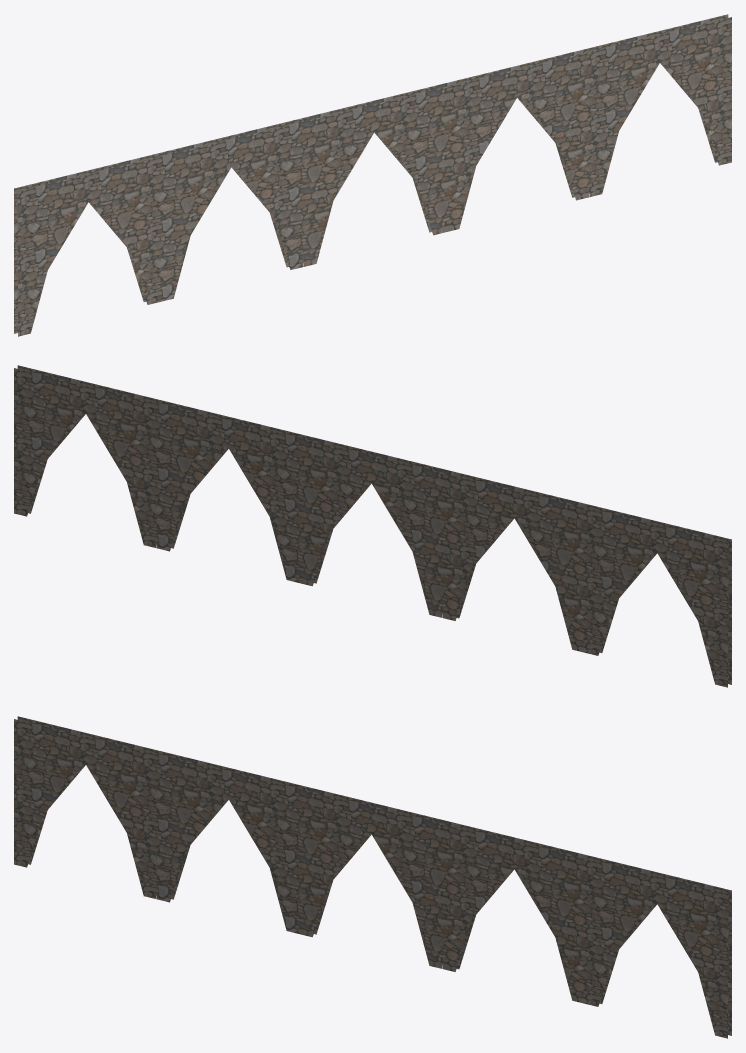
File: Upper_Wall.fbx
3 renders of one model, top to bottom at view 1: azimuth 30°, elevation 25°; view 2: azimuth 150°, elevation 25°; view 3: azimuth 330°, elevation 25°, orthographic.
Parts seen in each view (by area): view 1: Cube.005; view 2: Cube.005; view 3: Cube.005.
Part boxes in pixels (box(x1,y1,x2,y2)): Cube.005: box(14, 14, 731, 336); Cube.005: box(14, 365, 731, 687); Cube.005: box(14, 716, 731, 1038).
Bounding box in the file's own units: 1983 × 386 × 18.25.
